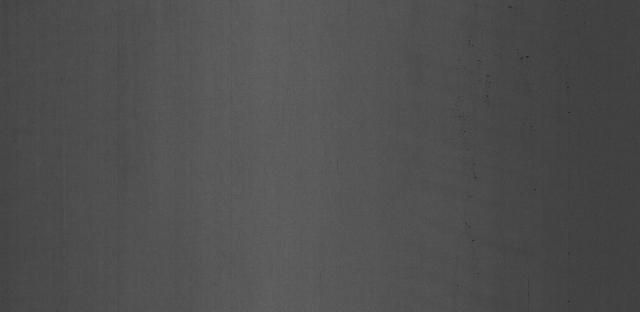inclusion: (462, 148, 480, 238), (480, 68, 496, 111), (516, 49, 537, 63)
